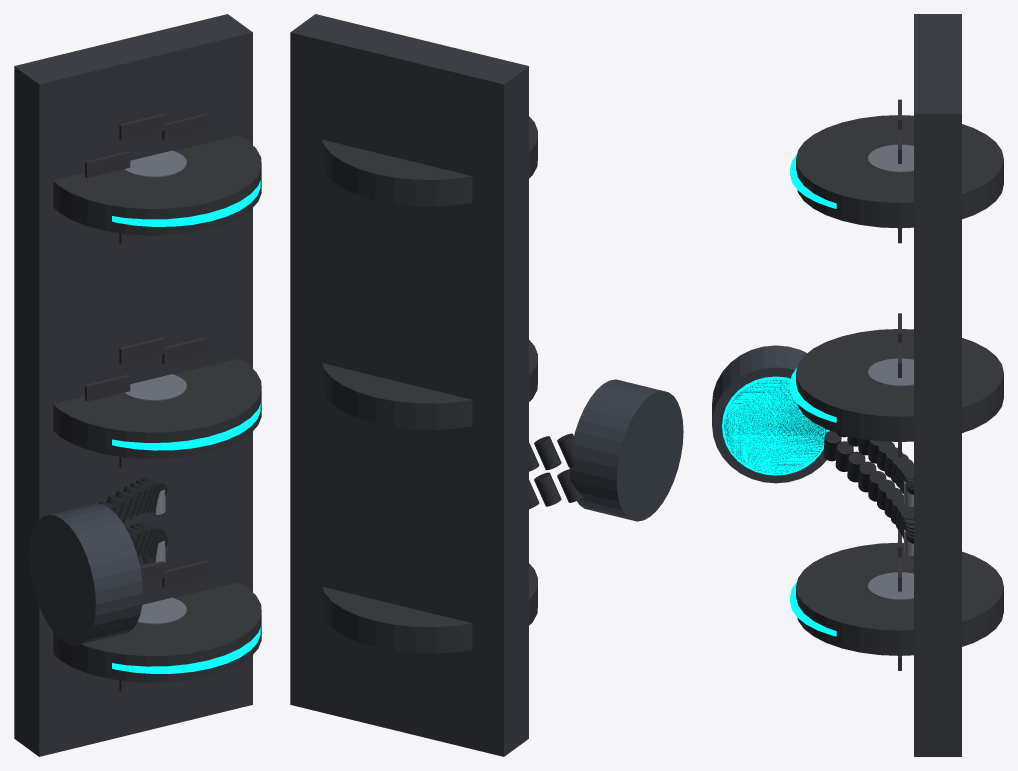
File: cooler_aio360.glb
3 renders of one model, left to right at view 1: azimuth 30°, elevation 25°; view 2: azimuth 150°, elevation 25°; view 3: azimuth 270°, elevation 25°, orthographic. The views are drawn at different scales.
Visible parts, largest first — view 1: AIO_Radiator, AIO_PumpBody, AIO_FanFrame_2, AIO_FanFrame_1, AIO_FanFrame_0, AIO_FanRGB_1, AIO_FanRGB_2, AIO_FanRGB_0, AIO_FanHub_2, AIO_FanHub_1, AIO_FanHub_0, AIO_Blade_1_2 (+6 smaller); view 2: AIO_Radiator, AIO_PumpBody, AIO_FanFrame_2, AIO_FanFrame_0, AIO_FanFrame_1; view 3: AIO_Radiator, AIO_FanFrame_2, AIO_FanFrame_1, AIO_FanFrame_0, AIO_LCDRing, AIO_PumpBody, AIO_LCDScreen, AIO_FanHub_2, AIO_FanHub_0, AIO_FanHub_1, AIO_FanRGB_0, AIO_FanRGB_1 (+1 smaller).
Part boxes in pixels (x1,y1,x2,y2): AIO_Radiator: (14, 14, 252, 756); AIO_PumpBody: (29, 503, 142, 645); AIO_FanFrame_2: (53, 135, 261, 235); AIO_FanFrame_1: (53, 359, 261, 458); AIO_FanFrame_0: (53, 582, 261, 682); AIO_FanRGB_1: (112, 404, 260, 450); AIO_FanRGB_2: (112, 180, 260, 226); AIO_FanRGB_0: (112, 627, 260, 673); AIO_FanHub_2: (124, 150, 186, 177); AIO_FanHub_1: (124, 374, 186, 400); AIO_FanHub_0: (137, 597, 186, 624); AIO_Blade_1_2: (119, 337, 164, 364); AIO_Radiator: (290, 14, 528, 756); AIO_PumpBody: (569, 379, 683, 521); AIO_FanFrame_2: (322, 116, 537, 206); AIO_FanFrame_0: (322, 563, 537, 653); AIO_FanFrame_1: (322, 340, 537, 429); AIO_Radiator: (914, 14, 961, 756); AIO_FanFrame_2: (796, 115, 1003, 228); AIO_FanFrame_1: (796, 329, 1003, 441); AIO_FanFrame_0: (796, 542, 1003, 655); AIO_LCDRing: (722, 376, 829, 475); AIO_PumpBody: (712, 345, 829, 483); AIO_LCDScreen: (724, 380, 826, 473); AIO_FanHub_2: (868, 144, 913, 172); AIO_FanHub_0: (868, 572, 913, 599); AIO_FanHub_1: (868, 358, 913, 386); AIO_FanRGB_0: (790, 582, 836, 636); AIO_FanRGB_1: (790, 367, 836, 422).
Size of the model in its own units: 1.45 by 3.55 by 1.46.
